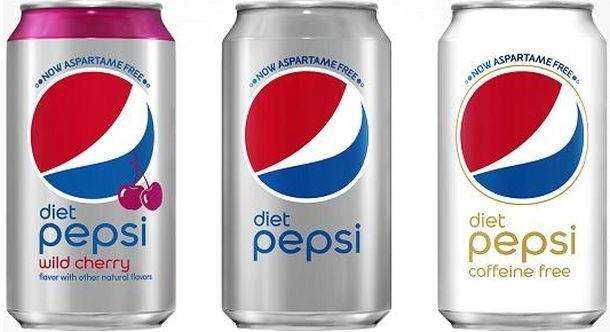pepsi: (460, 67, 585, 199), (28, 70, 155, 199), (244, 67, 369, 198), (462, 67, 585, 199), (32, 70, 155, 199), (462, 70, 585, 199)
